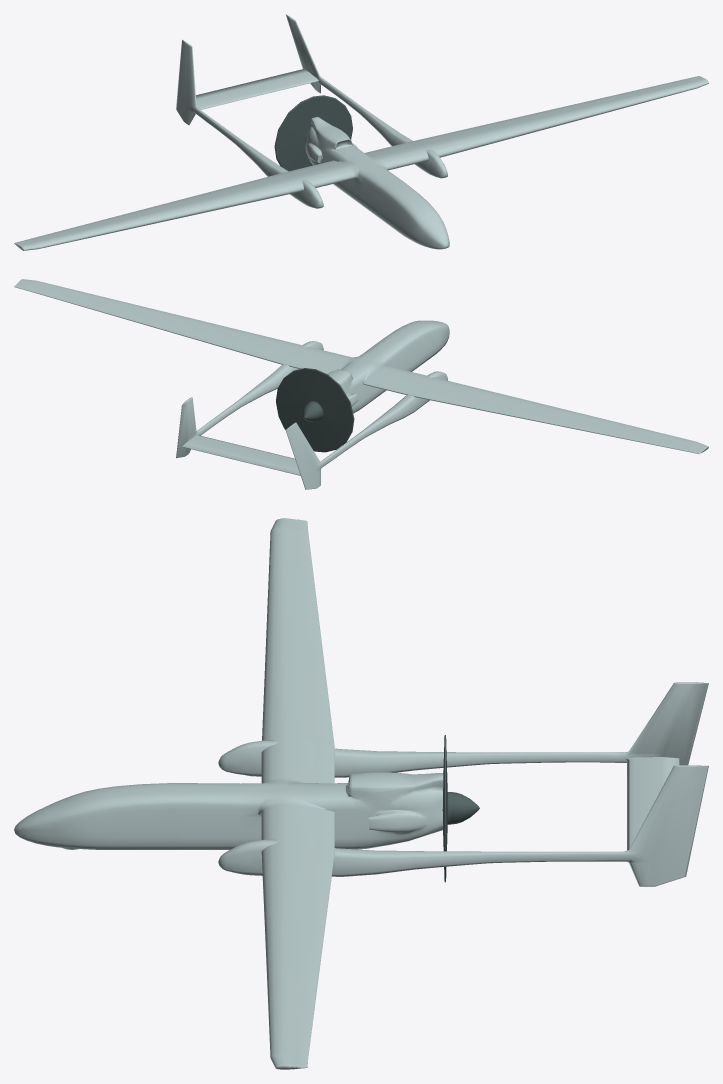
File: shoval.glb
3 renders of one model, top to bottom at view 1: azimuth 30°, elevation 25°; view 2: azimuth 150°, elevation 25°; view 3: azimuth 270°, elevation 25°, orthographic. The views are drawn at different scales.
Visible parts, largest first — view 1: B, A, spinner; view 2: B, A, spinner; view 3: B, A, spinner.
Boxes of the visible parts, x1,y1,x2,y2 form: B: [14, 76, 708, 250]; A: [176, 14, 447, 208]; spinner: [274, 95, 352, 171]; B: [14, 279, 708, 453]; A: [176, 341, 447, 489]; spinner: [276, 368, 354, 452]; B: [14, 518, 443, 1069]; A: [218, 682, 708, 886]; spinner: [442, 735, 479, 882].
Bounding box in the file's own units: 3.05 × 0.3955 × 1.64.
Materials: 1 (1 with a texture image).
